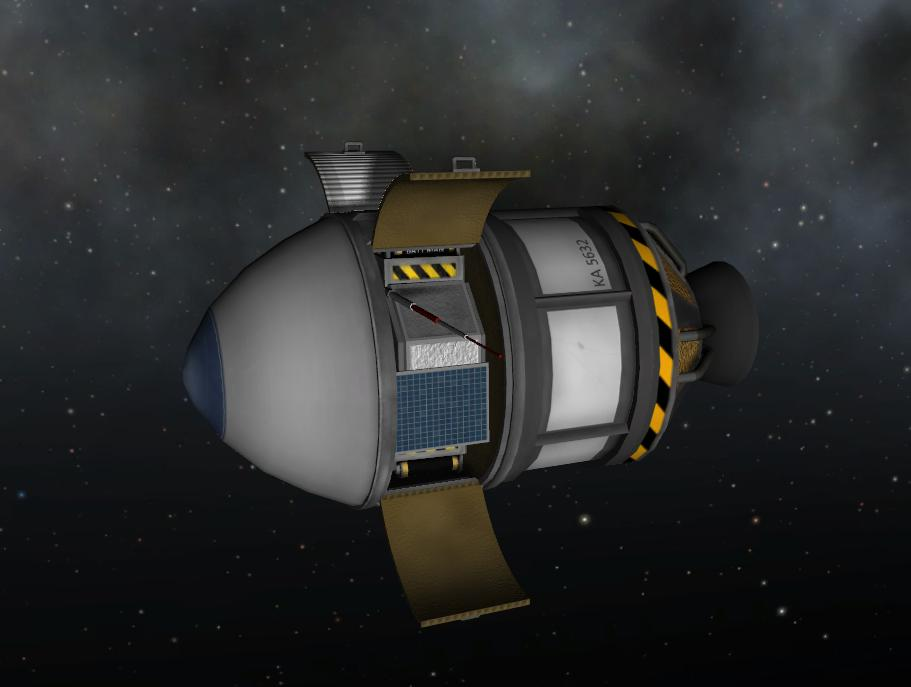antenna: (385, 287, 507, 361)
body: (178, 204, 680, 512)
solar: (394, 362, 490, 456)
thruster: (681, 257, 761, 389)
